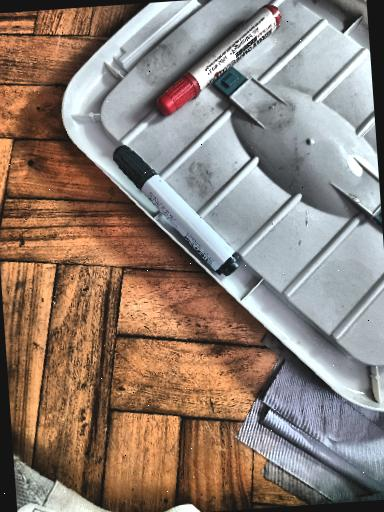marcador negro: (113, 145, 240, 276)
marcador rojo: (157, 4, 281, 115)
